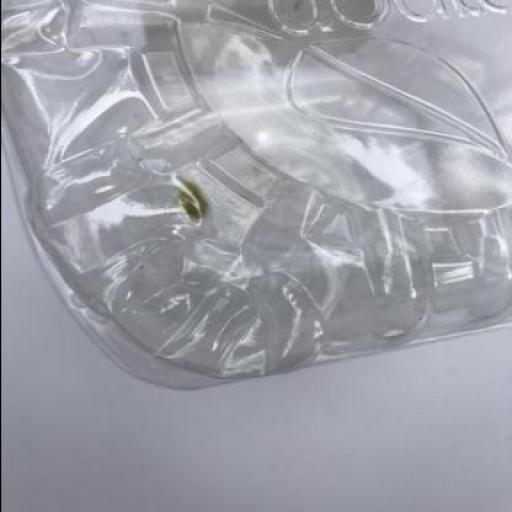plastic: (1, 0, 510, 391)
